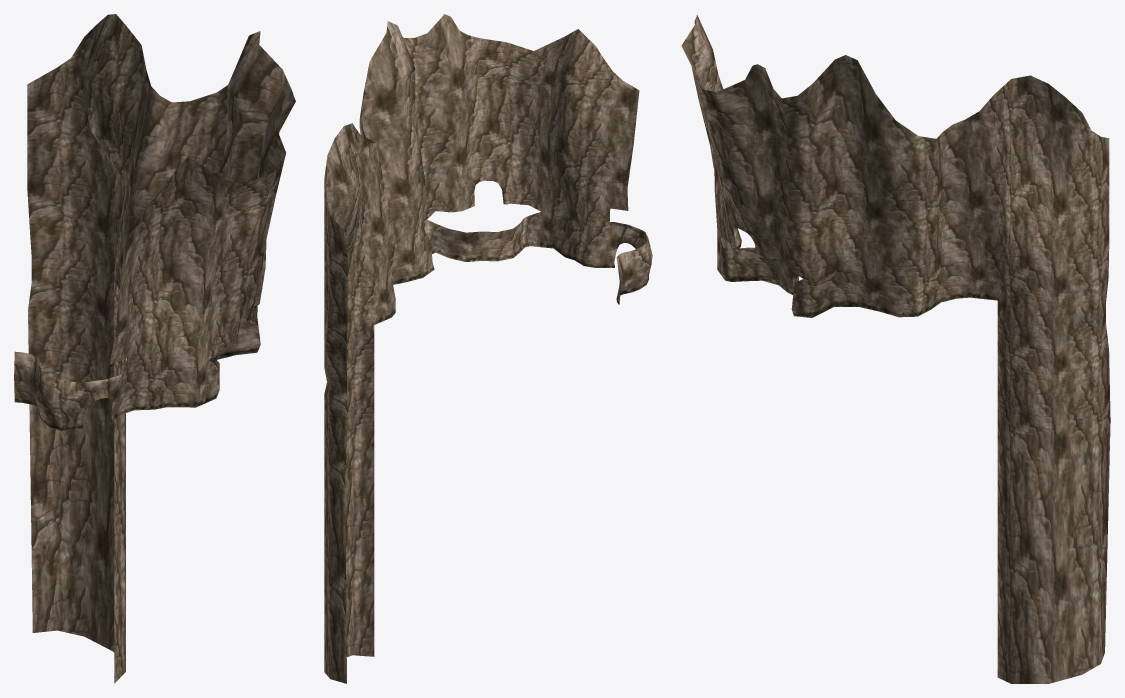
Rendered from OVERHILL_A_01_OBJECT23.fbx.
The picture shows the model from 3 angles, left to right: view 1: azimuth 30°, elevation 25°; view 2: azimuth 150°, elevation 25°; view 3: azimuth 270°, elevation 25°; orthographic projection. The views are drawn at different scales.
Visible parts, largest first — view 1: OVERHILL_A_01_OBJECT23; view 2: OVERHILL_A_01_OBJECT23; view 3: OVERHILL_A_01_OBJECT23.
Boxes of the visible parts, x1=… form: OVERHILL_A_01_OBJECT23: x1=14, y1=14, x2=295, y2=683; OVERHILL_A_01_OBJECT23: x1=324, y1=14, x2=652, y2=683; OVERHILL_A_01_OBJECT23: x1=681, y1=15, x2=1110, y2=683.
Size of the model in its own units: 203688 by 494839 by 295007.
Materials: 2 (2 with a texture image).
